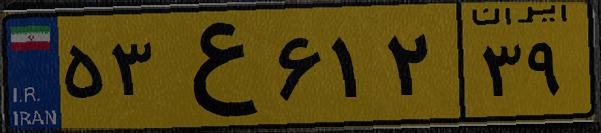1: (330, 28, 385, 110)
2: (385, 28, 445, 110)
3: (475, 38, 525, 113), (110, 28, 158, 98)
5: (57, 26, 110, 100)
6: (270, 28, 330, 110)
9: (525, 38, 570, 115)
ع: (158, 12, 270, 120)
